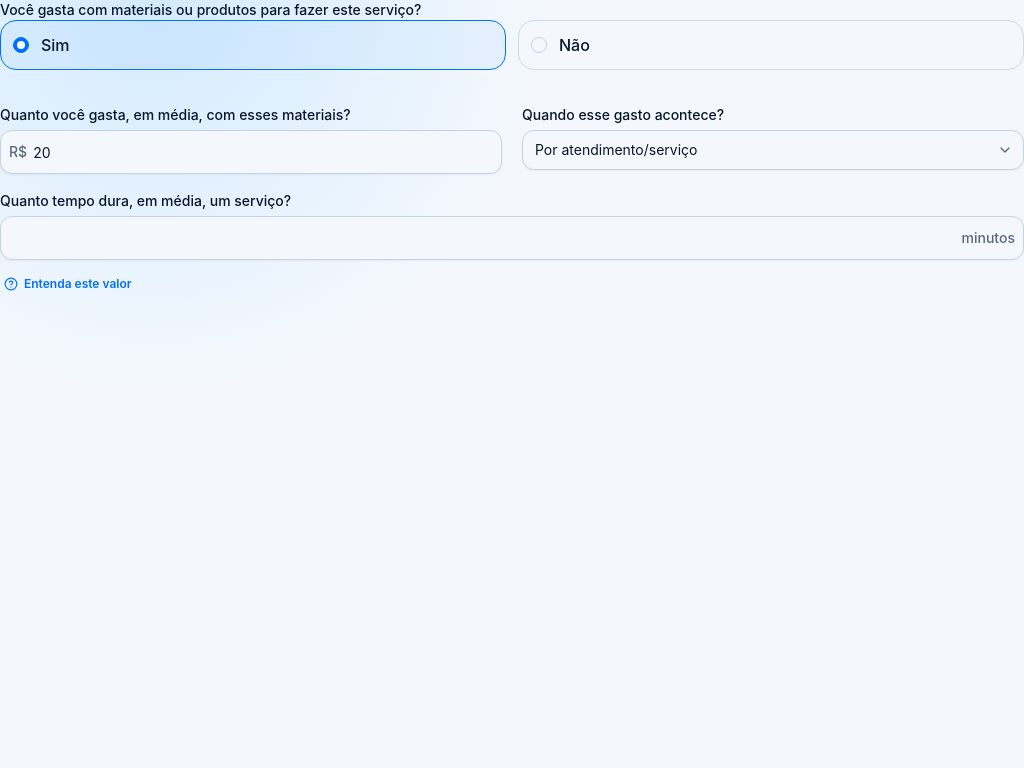
Test: MaterialCostStep appointment duration › asks for duration when hourly billing uses material per appointment
The width and height of the screenshot is (1024, 768).
Check: the field labelled "Quanto tempo dura, em média, um serviço?" is shown, box [1,218,962,258]
Click the button "Entenda este valor": (68, 284) [0,268,136,300]
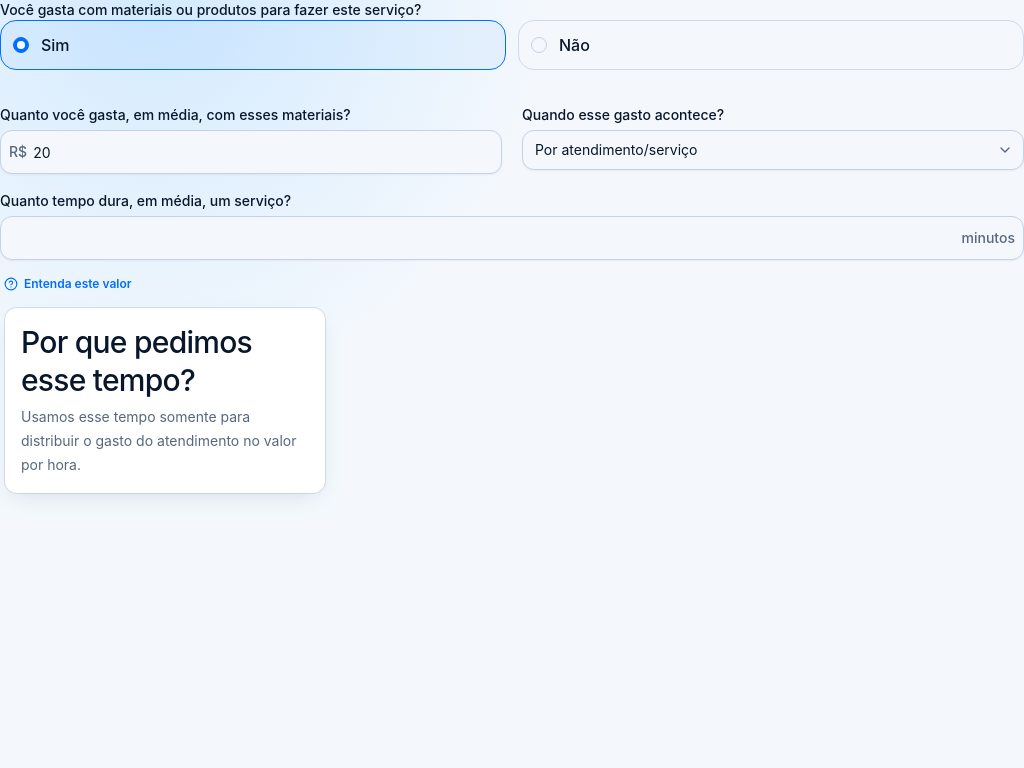
Check: the text "Usamos esse tempo somente para distribuir o gasto do atendimento no valor por hora." is shown, box [21,408,296,473]
